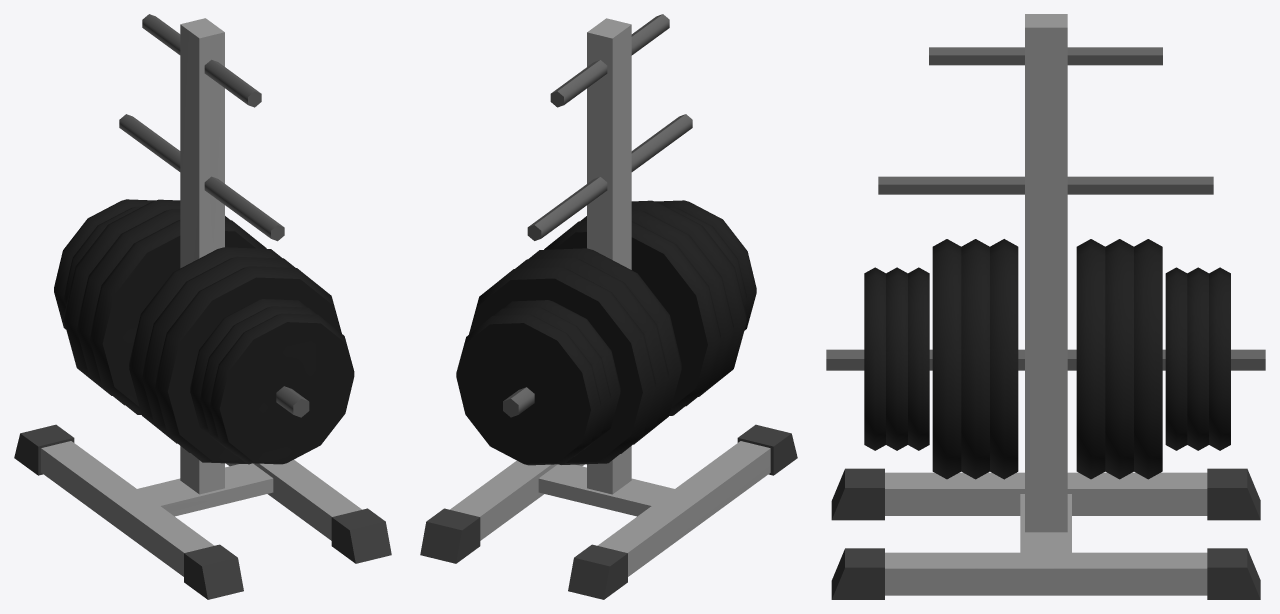
Rendered from Ejercicio1.obj.
3 renders of one model, left to right at view 1: azimuth 30°, elevation 25°; view 2: azimuth 150°, elevation 25°; view 3: azimuth 270°, elevation 25°, orthographic. The views are drawn at different scales.
Parts seen in each view (by area): view 1: training_item_002; view 2: training_item_002; view 3: training_item_002.
Part boxes in pixels (x1,y1,x2,y2): training_item_002: (14,14,391,599); training_item_002: (420,14,797,599); training_item_002: (826,14,1265,599).
Size of the model in its own units: 2.16 by 5.22 by 3.93.
Materials: 1 (1 with a texture image).
